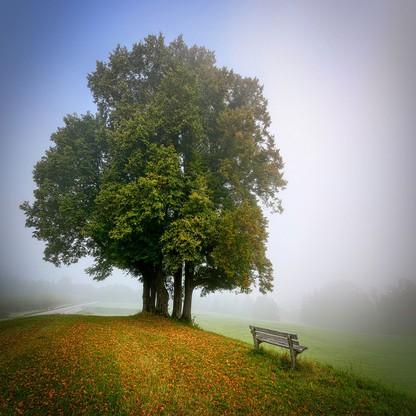obstacle: (240, 315, 313, 370)
